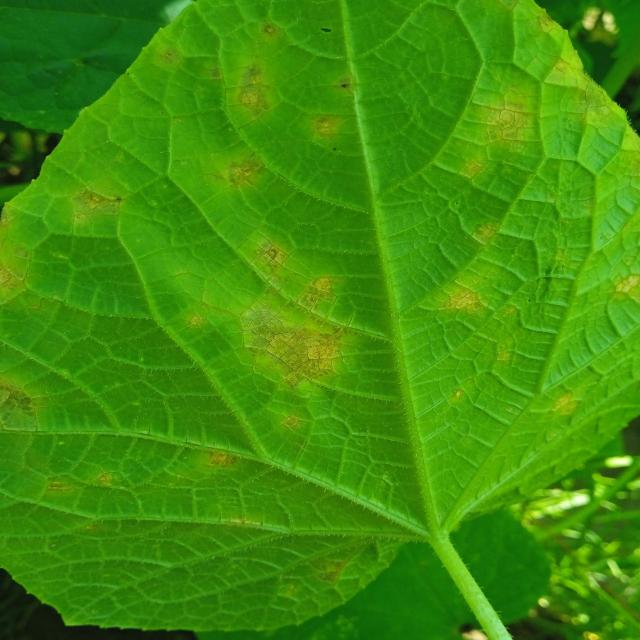cucumber_downy: (39, 14, 636, 611)
